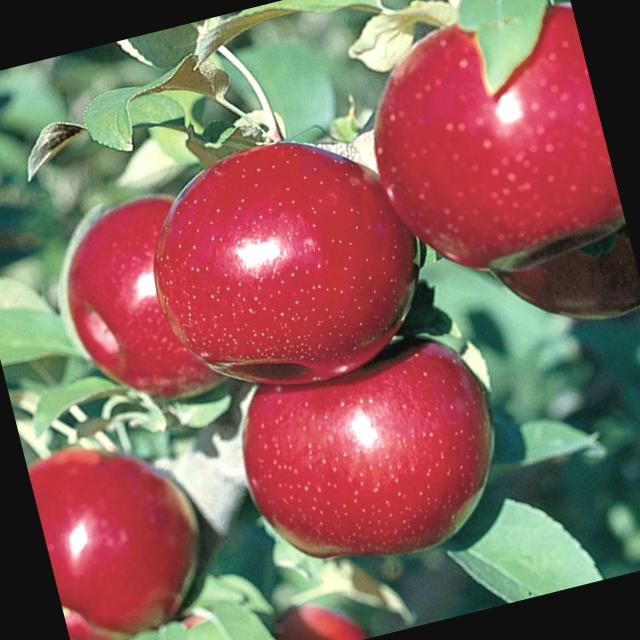apple: (134, 106, 450, 422), (326, 0, 632, 312), (225, 321, 523, 588), (24, 160, 281, 434), (24, 412, 224, 640)
